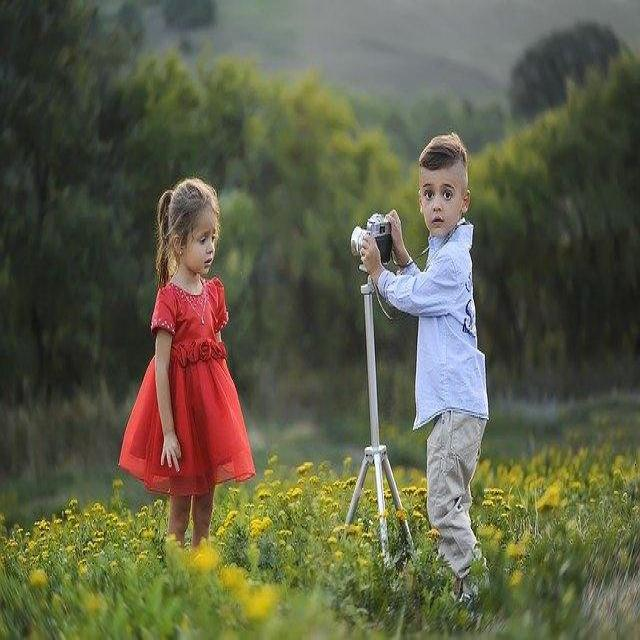person: (345, 101, 509, 604), (110, 157, 279, 612)
